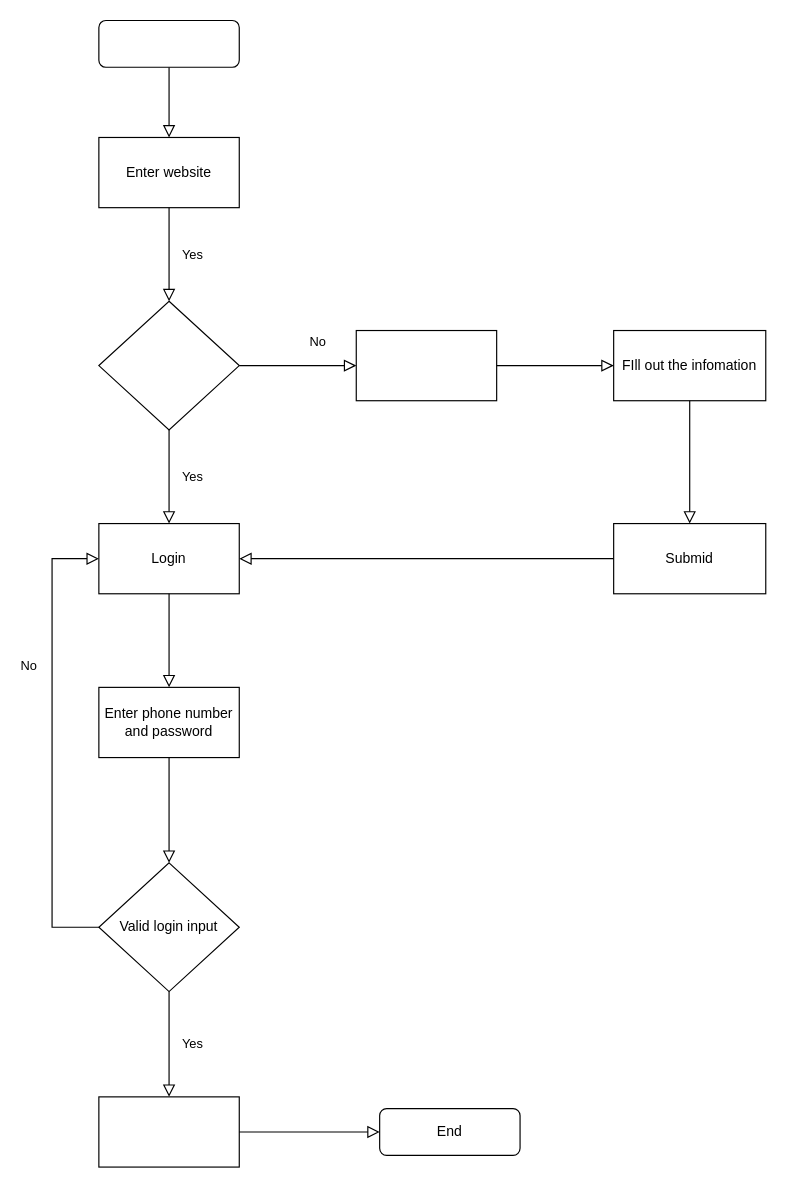
Some shapes in this 786 by 1188 pixel diagram are drawn without their labels. The centre of each missing label's shape, as x and y in pixels:
Have an account: (168,365)
Logged in: (168,1131)
Sign up: (426,365)
Start: (168,43)
